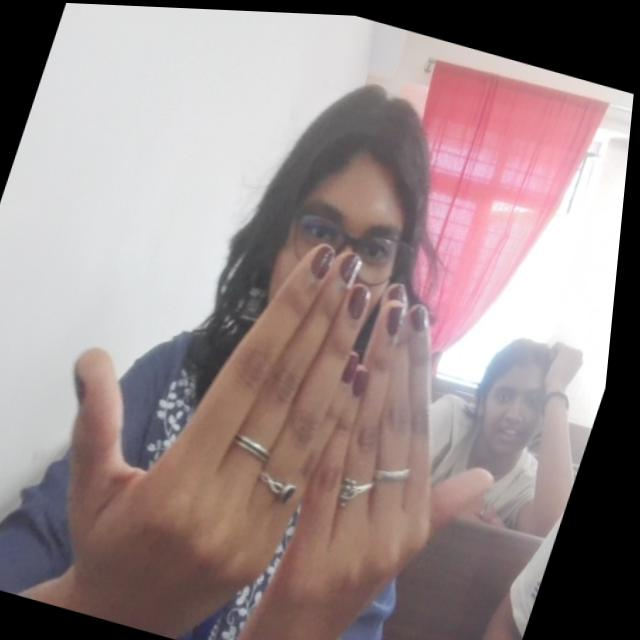thankyou: (6, 179, 570, 640)
